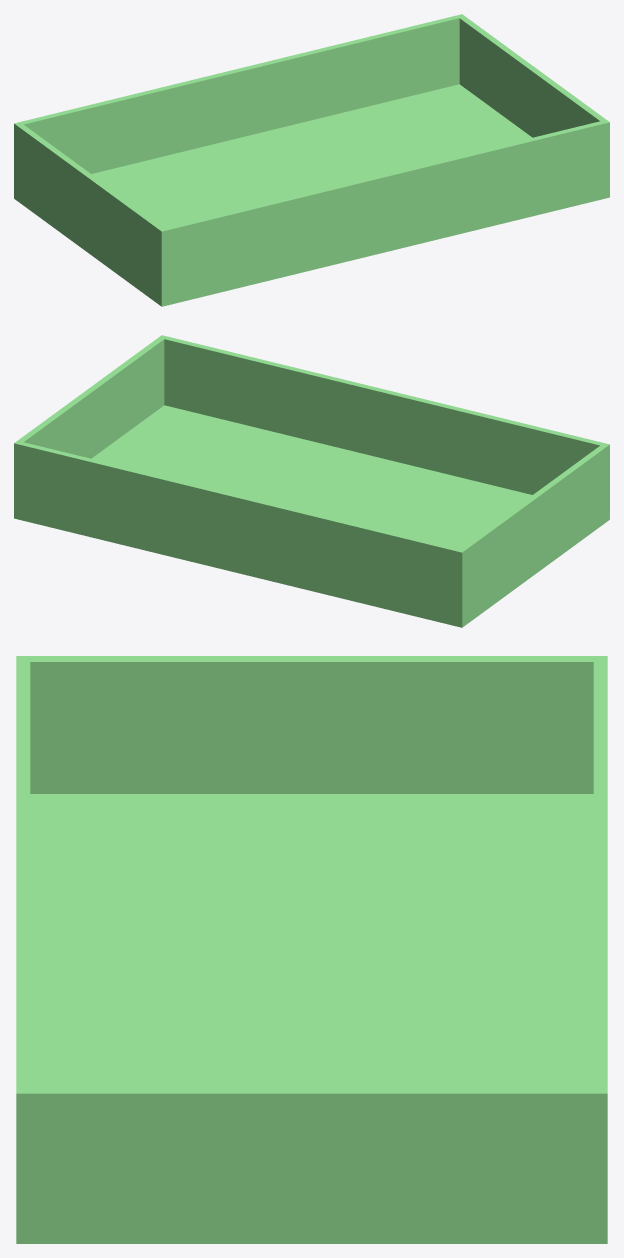
3 views of the same model, one above another, from view 1: azimuth 30°, elevation 25°; view 2: azimuth 150°, elevation 25°; view 3: azimuth 270°, elevation 25° (orthographic). The views are drawn at different scales.
Visible parts, largest first — view 1: Box_001; view 2: Box_001; view 3: Box_001.
Boxes of the visible parts, x1,y1,x2,y2 form: Box_001: [14, 14, 609, 306]; Box_001: [14, 335, 609, 627]; Box_001: [16, 656, 607, 1243].
Bounding box in the file's own units: 73.4 × 11.77 × 41.93.
